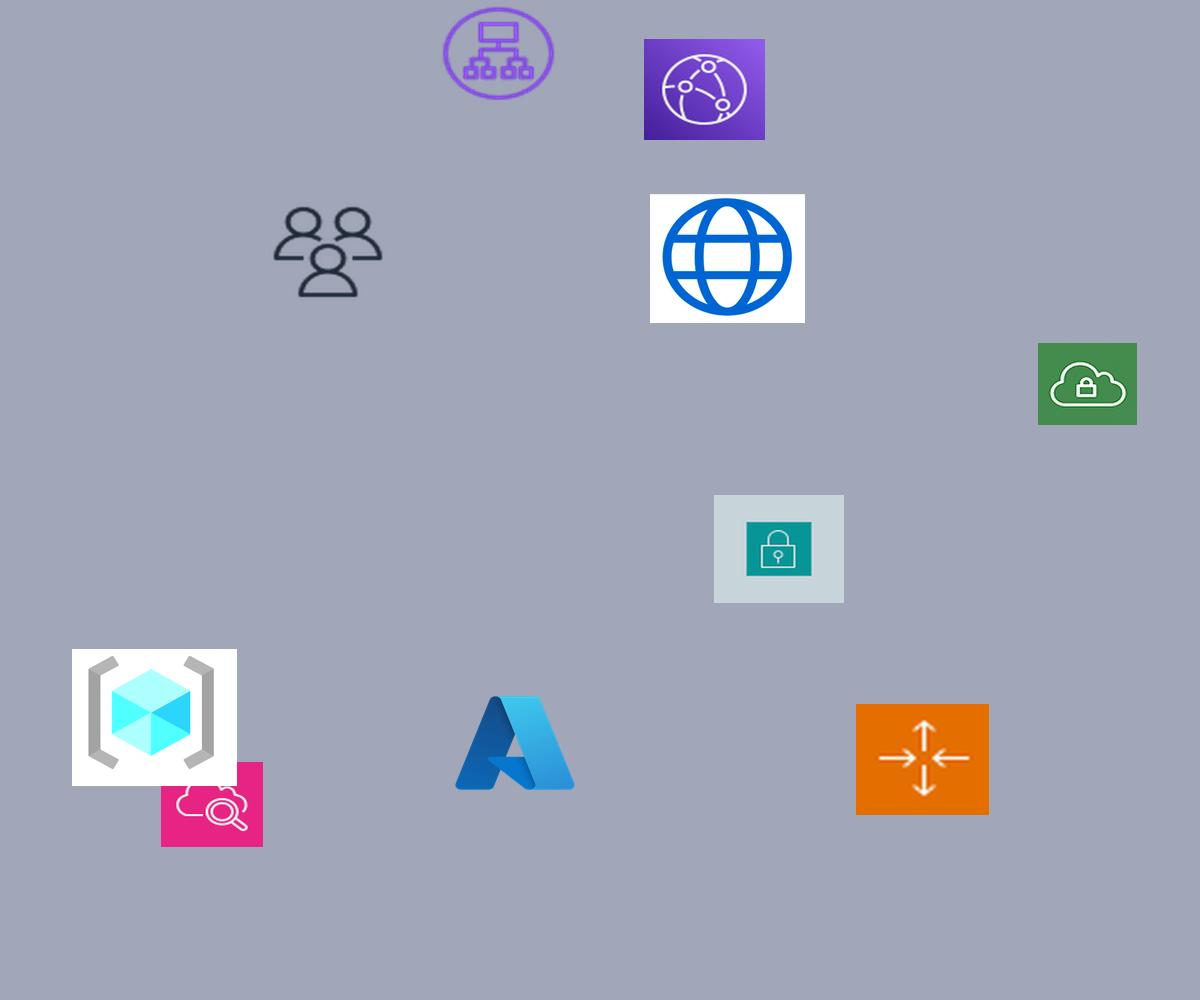AWS-CloudFront: (644, 39, 765, 140)
AWS-CloudWatch: (161, 762, 263, 847)
AWS-Private-subnet: (714, 495, 844, 603)
AWS-Private_vpc: (1038, 343, 1137, 425)
AWS-Res_Elastic-Load-Balancing_Application-Load-Balancer: (438, 3, 559, 104)
AWS-Res_Users: (269, 203, 387, 301)
AWS-Scaling-group: (856, 704, 989, 815)
Azure_http: (650, 194, 805, 323)
Azure_resource_group: (72, 649, 237, 786)
Azure_services: (450, 689, 580, 797)
